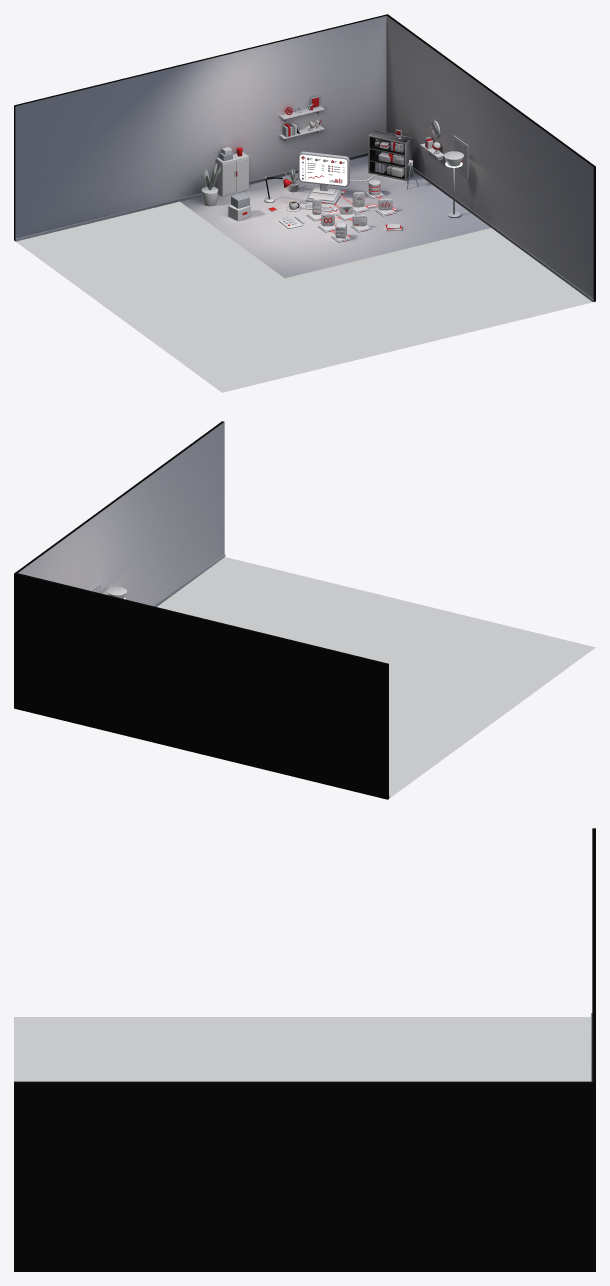
Rendered from portfolio_scene.glb.
3 renders of one model, top to bottom at view 1: azimuth 30°, elevation 25°; view 2: azimuth 150°, elevation 25°; view 3: azimuth 270°, elevation 25°, orthographic. The views are drawn at different scales.
Visible parts, largest first — view 1: room_floor, room_wall_back, room_wall_side, room_floor_inner, desk_shelf, node_monitor_ui, rm_skirt_back, rm_skirt_side, node_monitor_screen, node_monitor_body; view 2: room_wall_back, room_floor, room_wall_side; view 3: room_wall_side, room_floor, room_wall_back.
Part boxes in pixels (x1,y1,x2,y2): room_floor: (16,201,592,392); room_wall_back: (14,14,386,240); room_wall_side: (386,14,595,301); room_floor_inner: (180,155,490,278); desk_shelf: (368,130,411,180); node_monitor_ui: (302,156,345,184); rm_skirt_back: (15,152,368,241); rm_skirt_side: (412,167,593,301); node_monitor_screen: (299,154,347,185); node_monitor_body: (298,151,349,194); room_wall_back: (14,573,388,799); room_floor: (157,557,595,798); room_wall_side: (14,421,224,695); room_wall_side: (14,1081,595,1271); room_floor: (14,1017,590,1081); room_wall_back: (592,828,595,1081).
Size of the model in its own units: 63.75 by 22.1 by 61.5.
16 materials, 3 textured.
